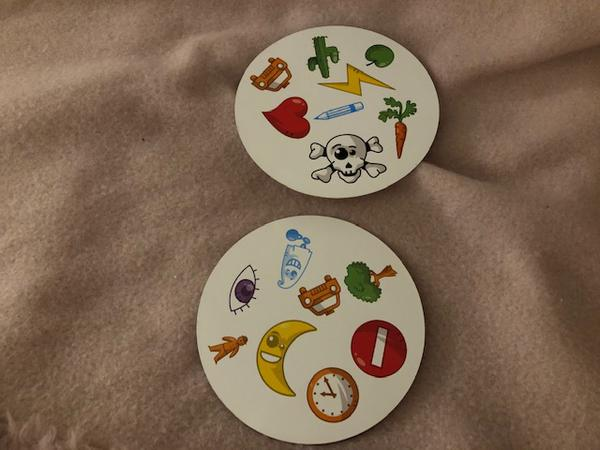arbre: (343, 257, 399, 305)
bonhomme: (208, 328, 250, 367)
cactus: (300, 35, 338, 80)
carotte: (378, 92, 418, 163)
coeur: (261, 95, 311, 140)
crayon: (311, 98, 366, 124)
eclair: (312, 63, 402, 98)
fantome: (274, 223, 317, 295)
horloge: (304, 363, 361, 425)
lune: (255, 318, 318, 398)
oeuil: (223, 260, 258, 319)
pomme: (363, 42, 396, 69)
sens_interdit: (348, 317, 408, 378)
tete_mort: (302, 130, 388, 187)
voiture: (294, 270, 341, 318), (244, 55, 293, 96)
